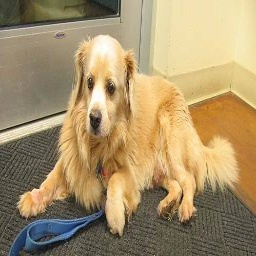dog: (19, 31, 232, 235)
